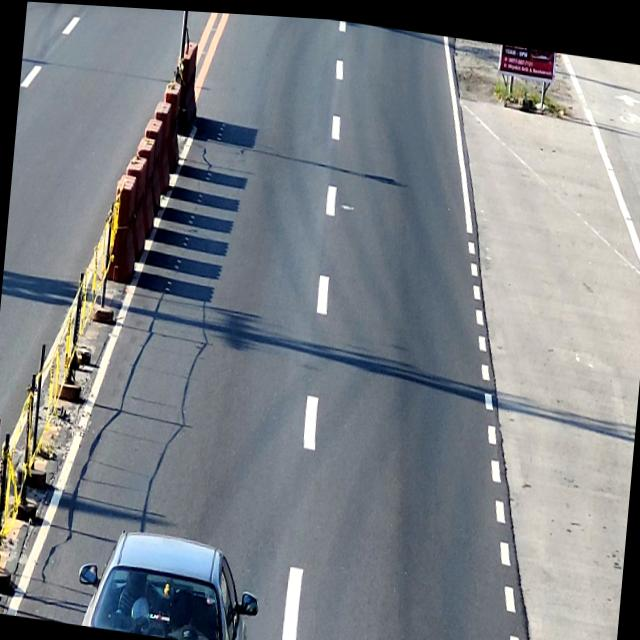Car: (73, 520, 262, 640)
